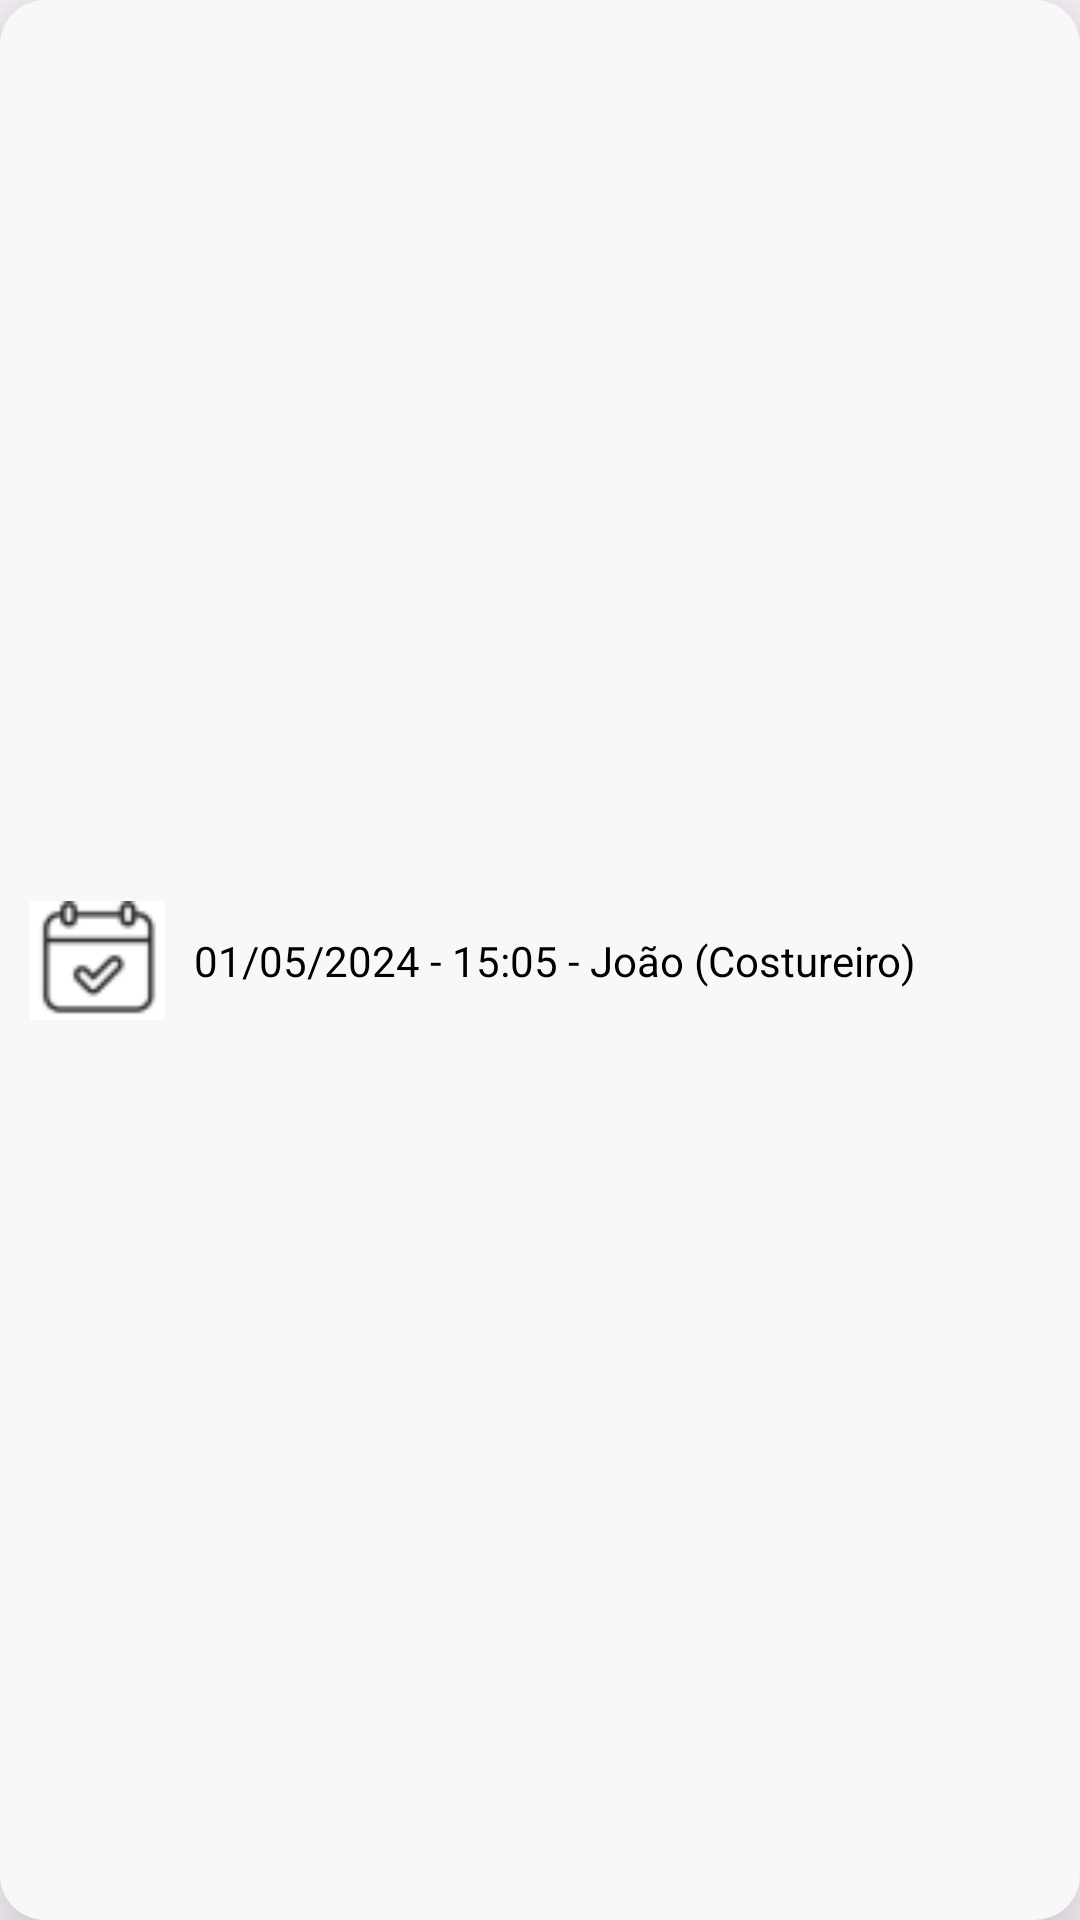

Where to tap for icons on this 1080px x 1920px app screen, as point (x, y):
agendamento confirmado: point (99, 957)
